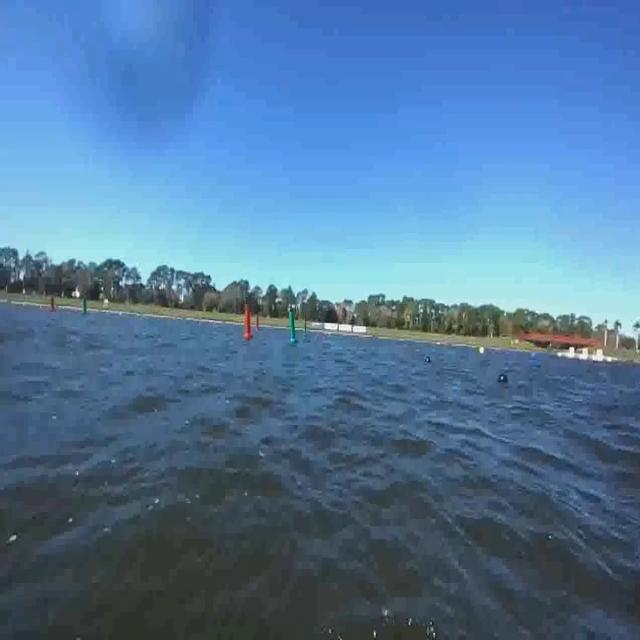black-buoy: (500, 374, 508, 386), (425, 356, 432, 366)
green-column-buoy: (286, 312, 298, 347), (81, 297, 88, 317)
red-column-buoy: (241, 306, 251, 342), (49, 296, 56, 312)
